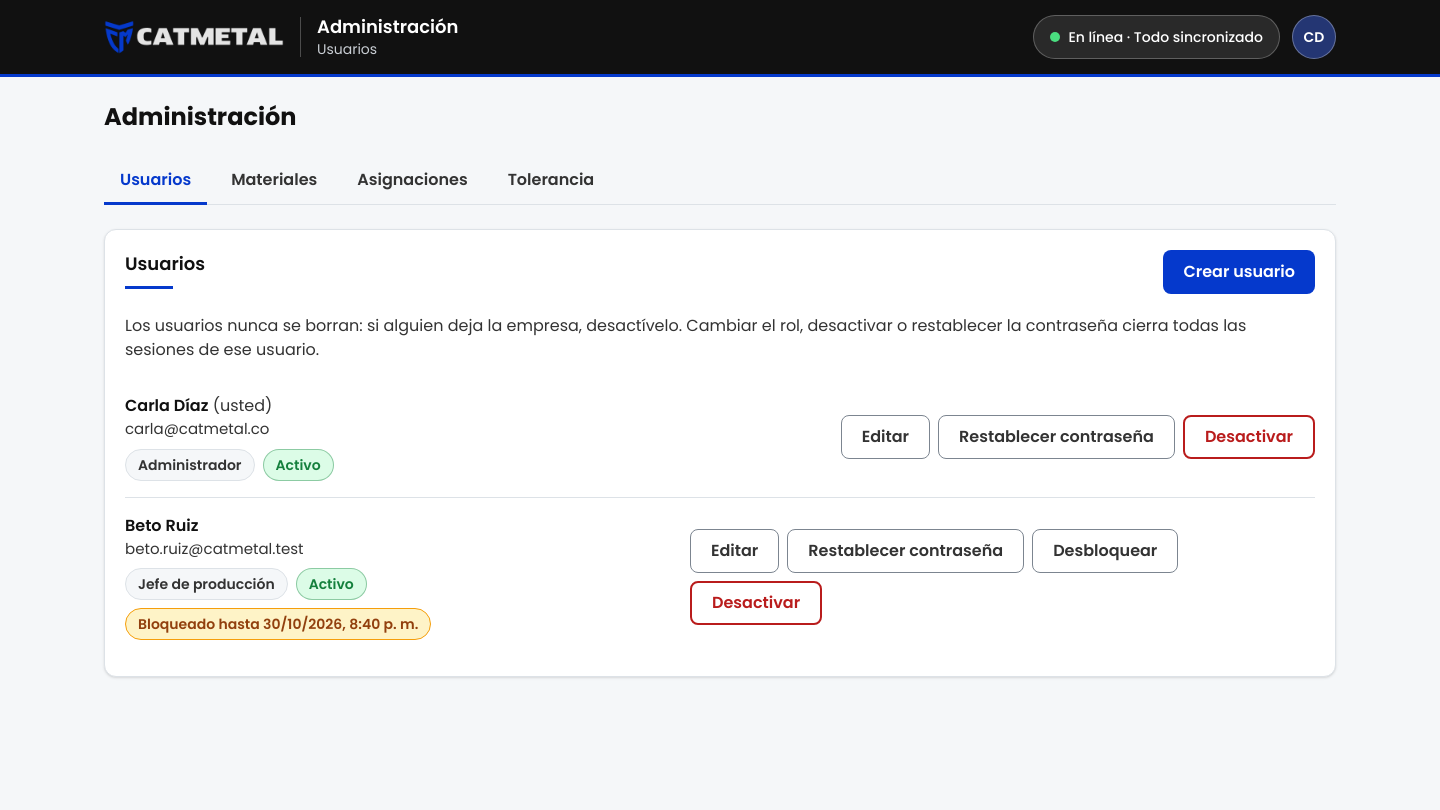
Test: Administración · usuarios › desbloquear: muestra "Bloqueado hasta" y lo quita tras confirmar
Check: the text "Bloqueado hasta 30/10/2026, 8:40 p. m." is shown, box 125,608 -> 431,640
Click the button with aria-label "Desbloquear a Beto Ruiz" at (1105, 551), box 1032,529 -> 1178,573
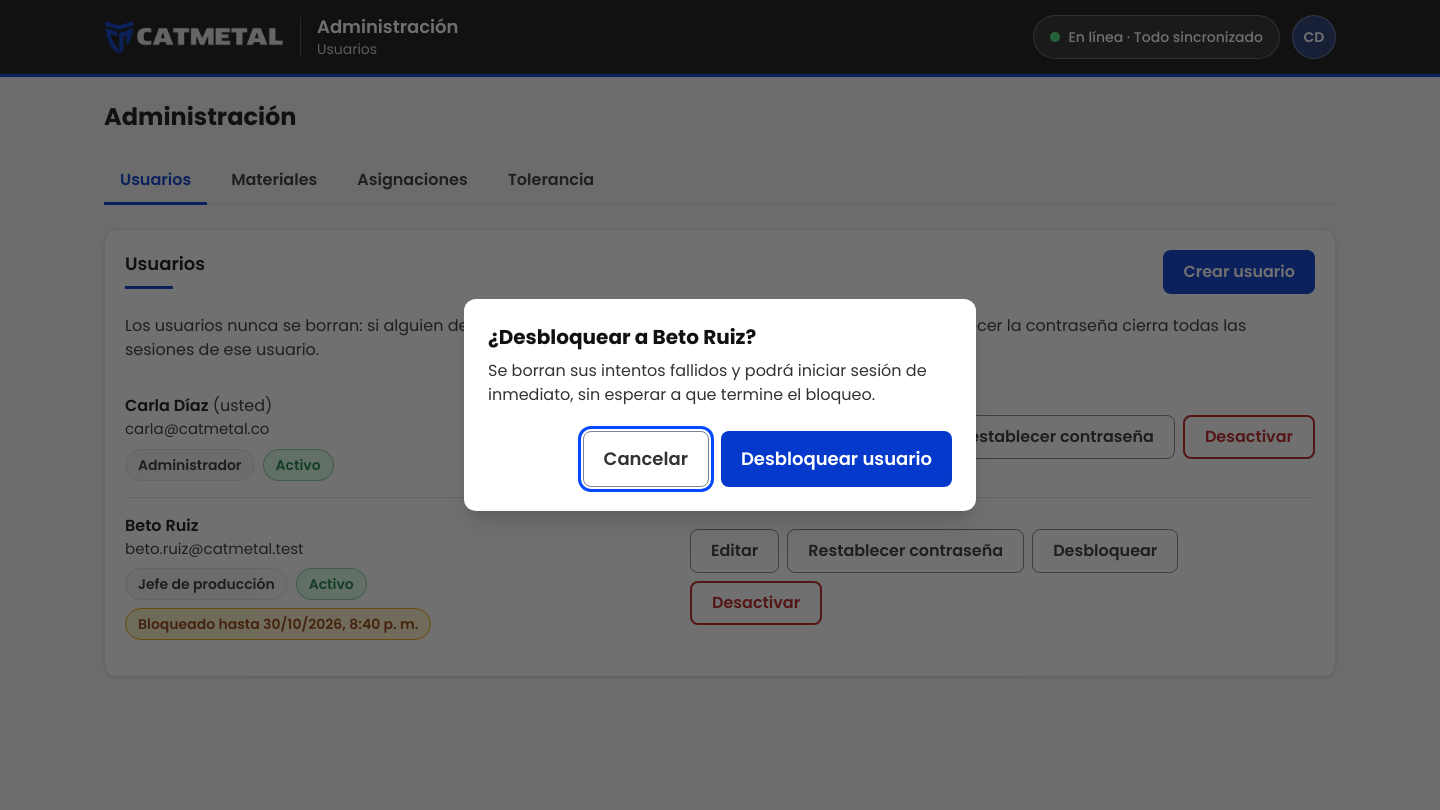
Click the button "Desbloquear usuario" at (836, 459), box 721,431 -> 952,487
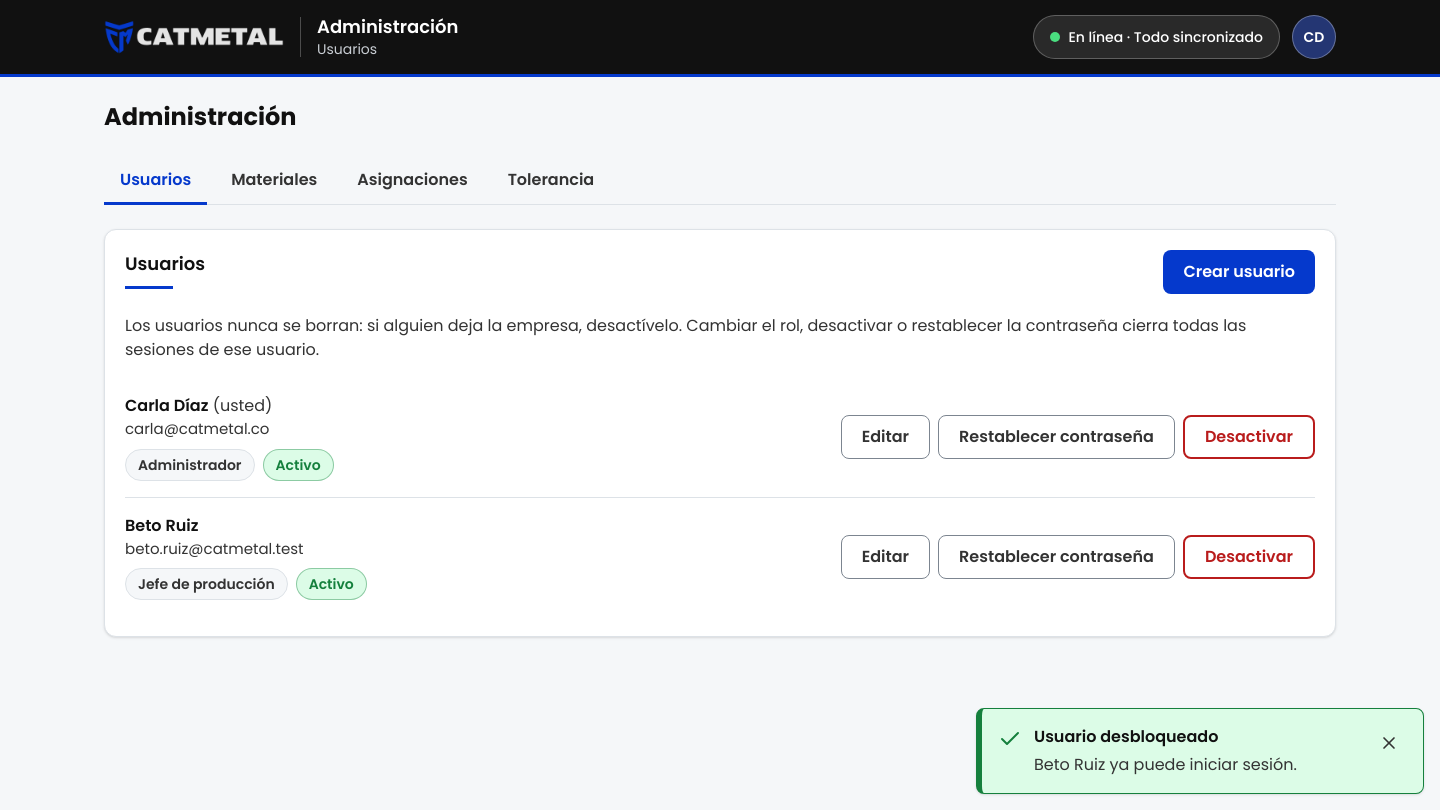
Check: the text "Usuario desbloqueado" is shown, box 1033,724 -> 1218,748
Check: the text "Bloqueado hasta " is gone
